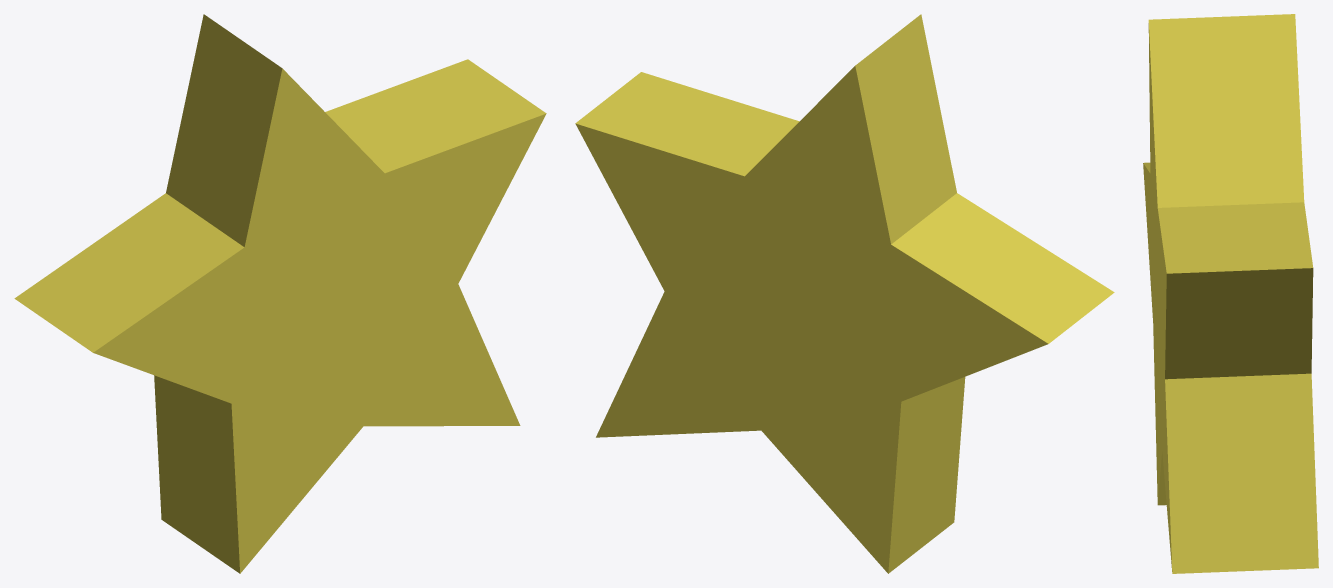
File: Shiny Wolt-Jaban.glb
3 renders of one model, left to right at view 1: azimuth 30°, elevation 25°; view 2: azimuth 150°, elevation 25°; view 3: azimuth 270°, elevation 25°, orthographic.
Visible parts, largest first — view 1: Mesh_Mesh_head_geo.001_lambert2SG.001; view 2: Mesh_Mesh_head_geo.001_lambert2SG.001; view 3: Mesh_Mesh_head_geo.001_lambert2SG.001.
Boxes of the visible parts, x1,y1,x2,y2 form: Mesh_Mesh_head_geo.001_lambert2SG.001: (14,14,546,573); Mesh_Mesh_head_geo.001_lambert2SG.001: (575,14,1114,573); Mesh_Mesh_head_geo.001_lambert2SG.001: (1143,14,1318,573).
Size of the model in its own units: 0.0374 by 0.0381 by 0.012.
